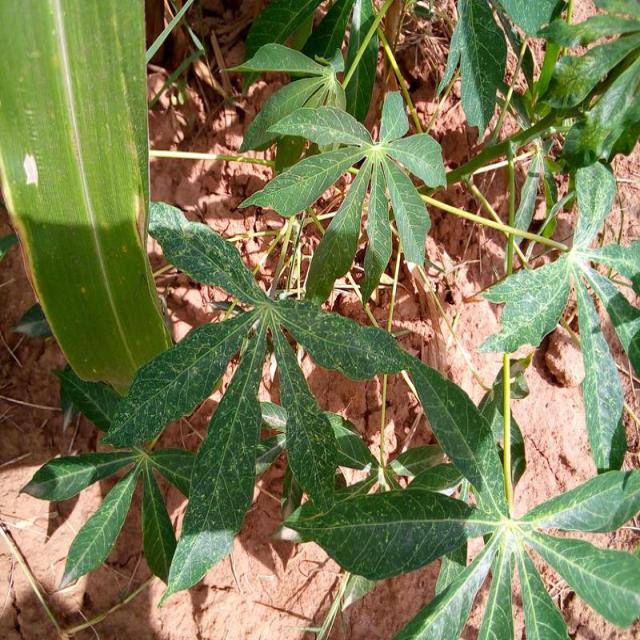cassava leaf: (0, 0, 174, 398)
